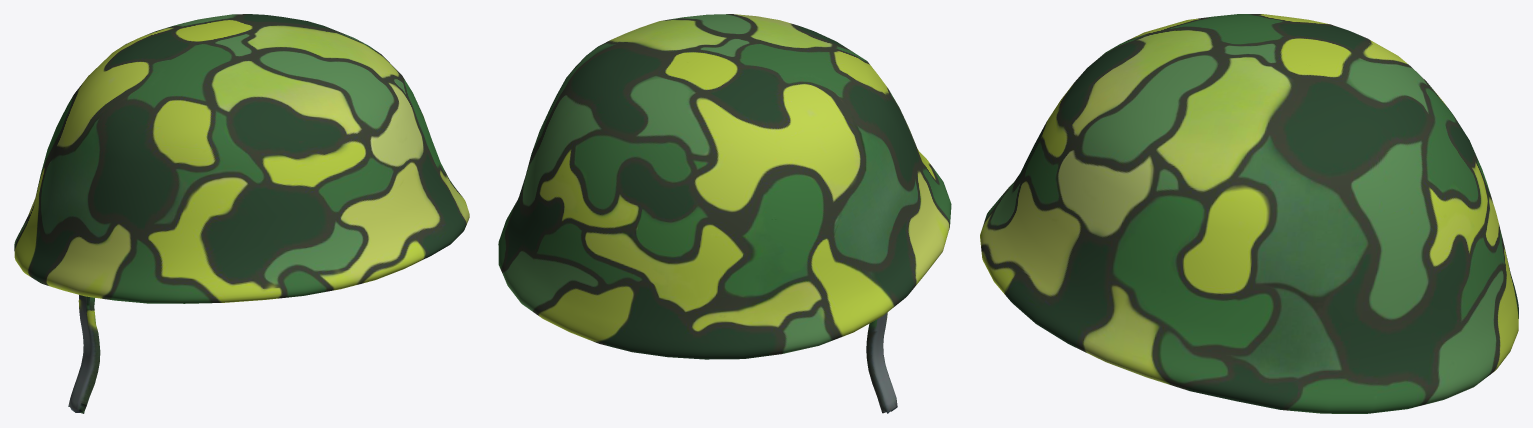
The model's file is Helmet Green.glb.
The picture shows the model from 3 angles, left to right: view 1: azimuth 30°, elevation 25°; view 2: azimuth 150°, elevation 25°; view 3: azimuth 270°, elevation 25°; orthographic projection. The views are drawn at different scales.
Visible parts, largest first — view 1: Army Helmet; view 2: Army Helmet; view 3: Army Helmet.
Boxes of the visible parts, <box> form: Army Helmet: <box>14,14,469,413</box>; Army Helmet: <box>498,14,951,413</box>; Army Helmet: <box>980,14,1518,413</box>.
Bounding box in the file's own units: 0.5528 × 0.4439 × 0.547.
1 material, 1 textured.
